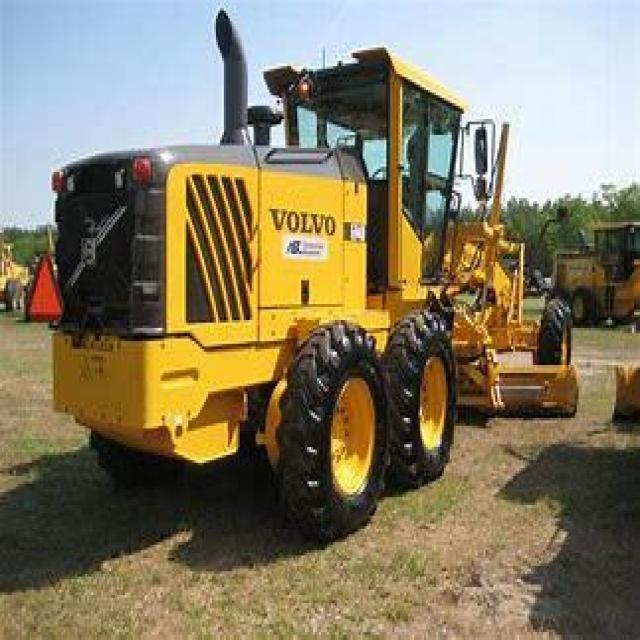Grader: (36, 19, 578, 550)
